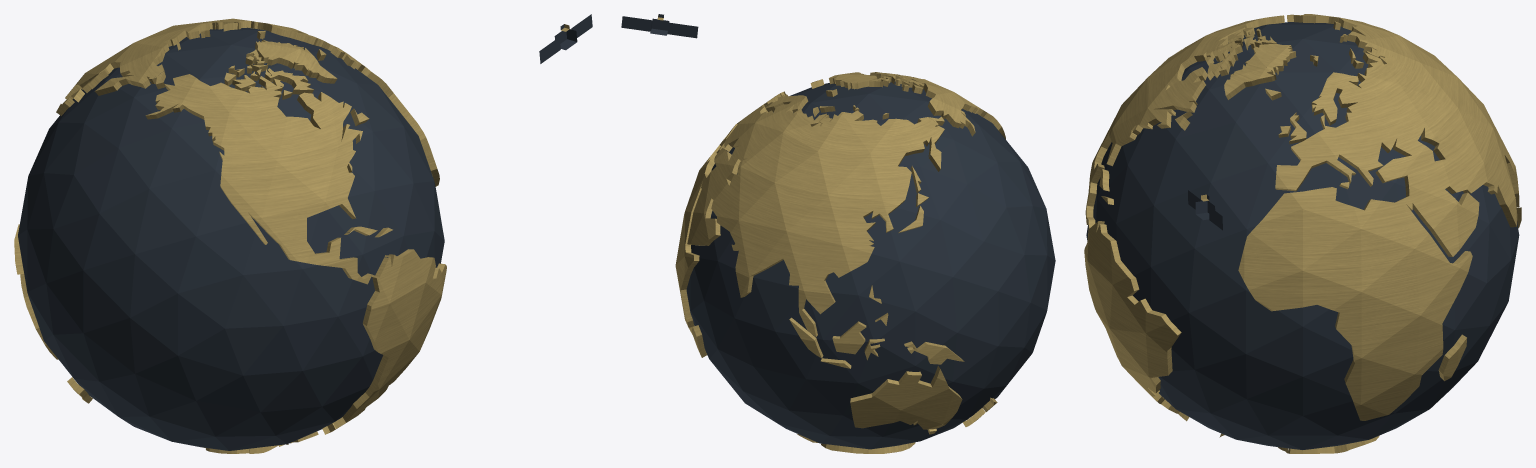
Rendered from atlas_globe_v6.glb.
3 renders of one model, left to right at view 1: azimuth 30°, elevation 25°; view 2: azimuth 150°, elevation 25°; view 3: azimuth 270°, elevation 25°, orthographic. The views are drawn at different scales.
Parts seen in each view (by area): view 1: LowPolyEarthGlobe, Satellite; view 2: LowPolyEarthGlobe, Satellite; view 3: LowPolyEarthGlobe, Satellite.
Part boxes in pixels (x1=…): LowPolyEarthGlobe: x1=14, y1=18, x2=446, y2=453; Satellite: x1=539, y1=14, x2=592, y2=63; LowPolyEarthGlobe: x1=675, y1=72, x2=1055, y2=453; Satellite: x1=621, y1=14, x2=698, y2=38; LowPolyEarthGlobe: x1=1084, y1=14, x2=1521, y2=453; Satellite: x1=1188, y1=190, x2=1222, y2=230.
Bounding box in the file's own units: 2.74 × 2.05 × 2.02.
2 materials, 1 textured.
